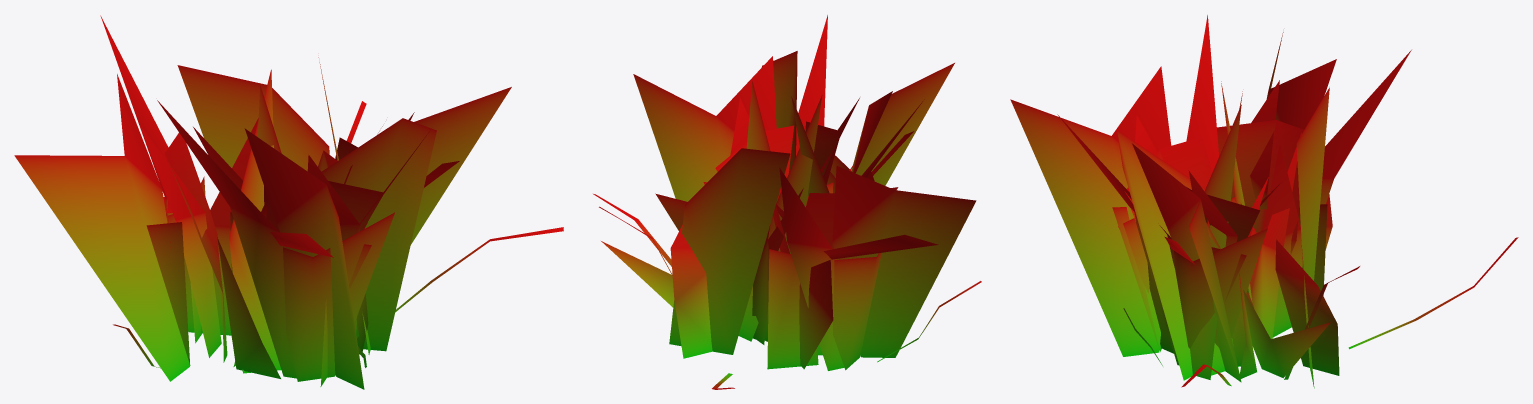
File: Tundra Grass_LOD6_Var29_wk2oaeyqx.fbx
The picture shows the model from 3 angles, left to right: view 1: azimuth 30°, elevation 25°; view 2: azimuth 150°, elevation 25°; view 3: azimuth 270°, elevation 25°; orthographic projection. The views are drawn at different scales.
Parts seen in each view (by area): view 1: _mfa0_Var29_LOD6; view 2: _mfa0_Var29_LOD6; view 3: _mfa0_Var29_LOD6.
Boxes of the visible parts, x1=… form: _mfa0_Var29_LOD6: x1=14, y1=15, x2=563, y2=389; _mfa0_Var29_LOD6: x1=593, y1=15, x2=981, y2=389; _mfa0_Var29_LOD6: x1=1010, y1=15, x2=1518, y2=388.
Size of the model in its own units: 32.95 by 18.9 by 32.13.
